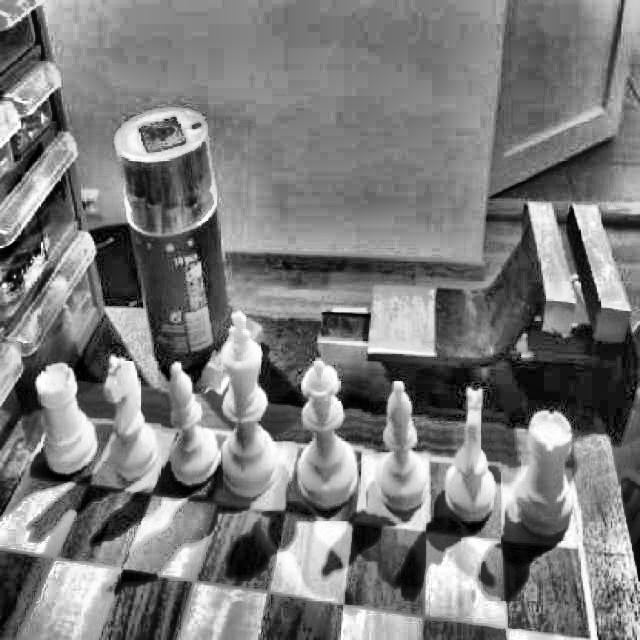white-bishop: (371, 371, 432, 527), (160, 352, 222, 493)
white-king: (216, 308, 286, 507)
white-knight: (439, 378, 502, 530), (103, 352, 161, 484)
white-queen: (294, 356, 366, 522)
white-rook: (506, 403, 582, 542), (31, 352, 104, 480)
